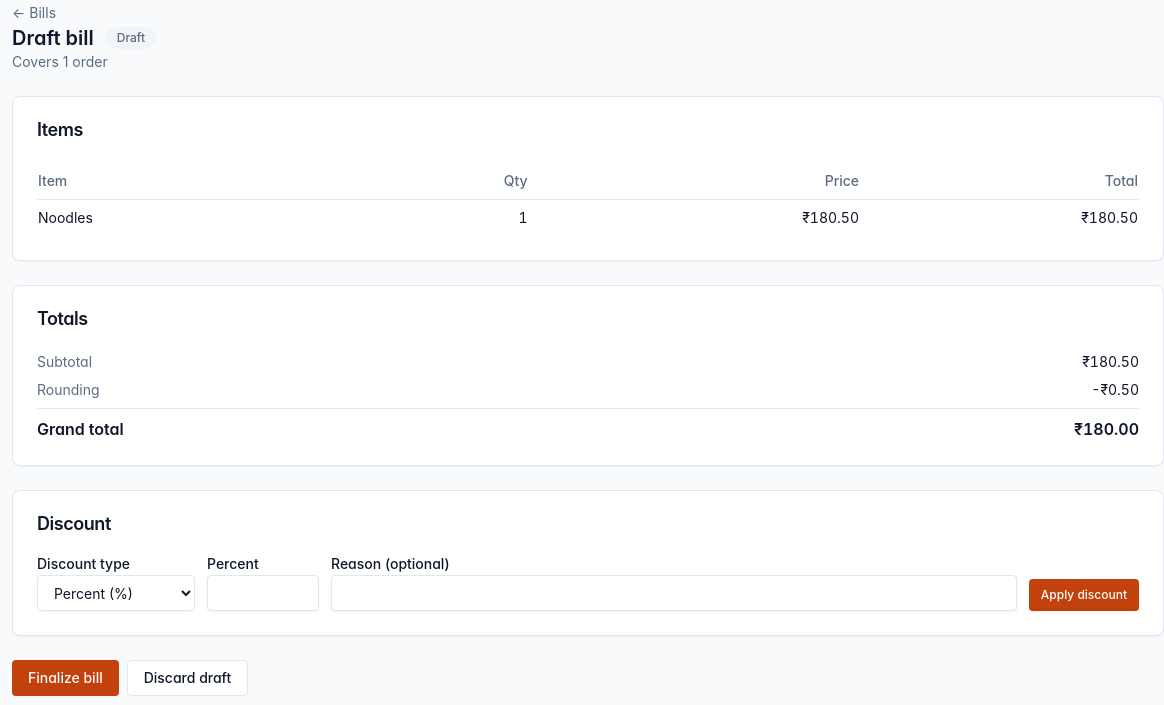
Test: BillDetailPage › shows the server message when finalize fails
The image size is (1164, 705).
Click the button "Finalize bill" at (65, 678), box [12,660,119,696]
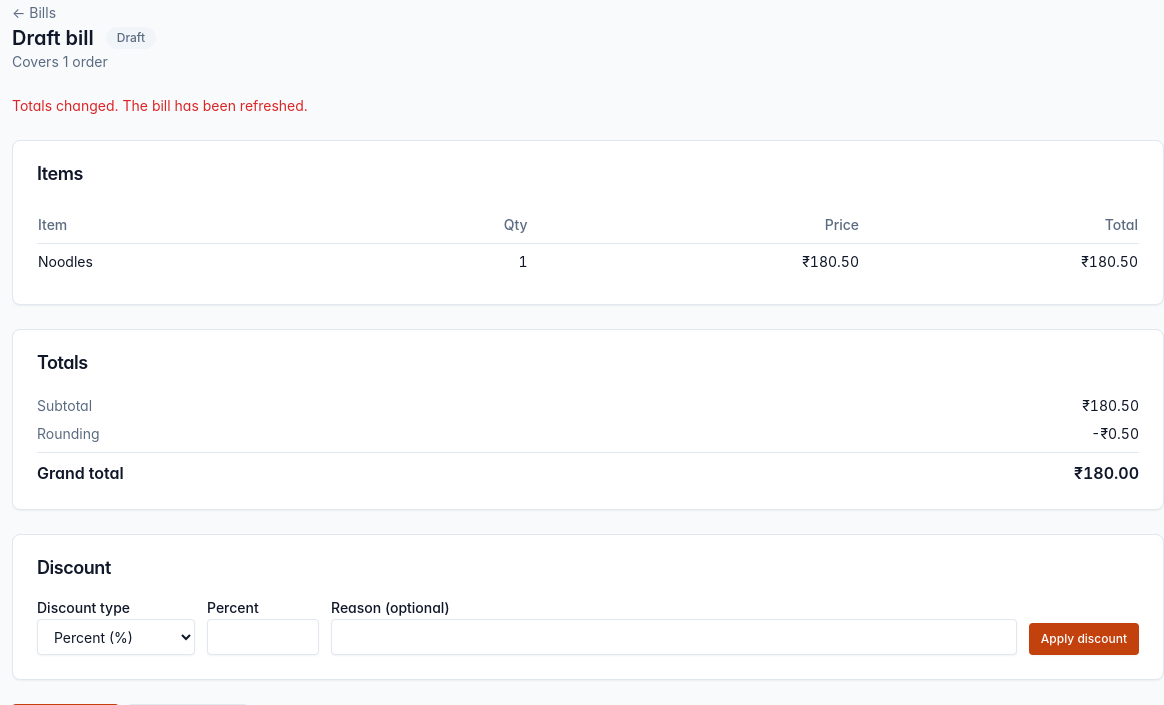
expect the message shows "Totals changed.": met, box [12,97,308,114]
